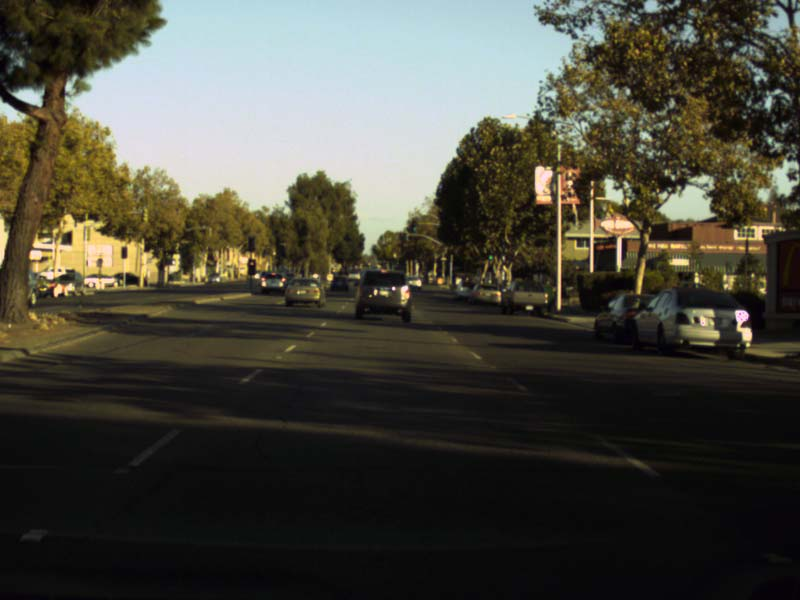Green: (487, 246, 493, 259), (411, 221, 416, 231)
Red: (248, 260, 254, 273)
